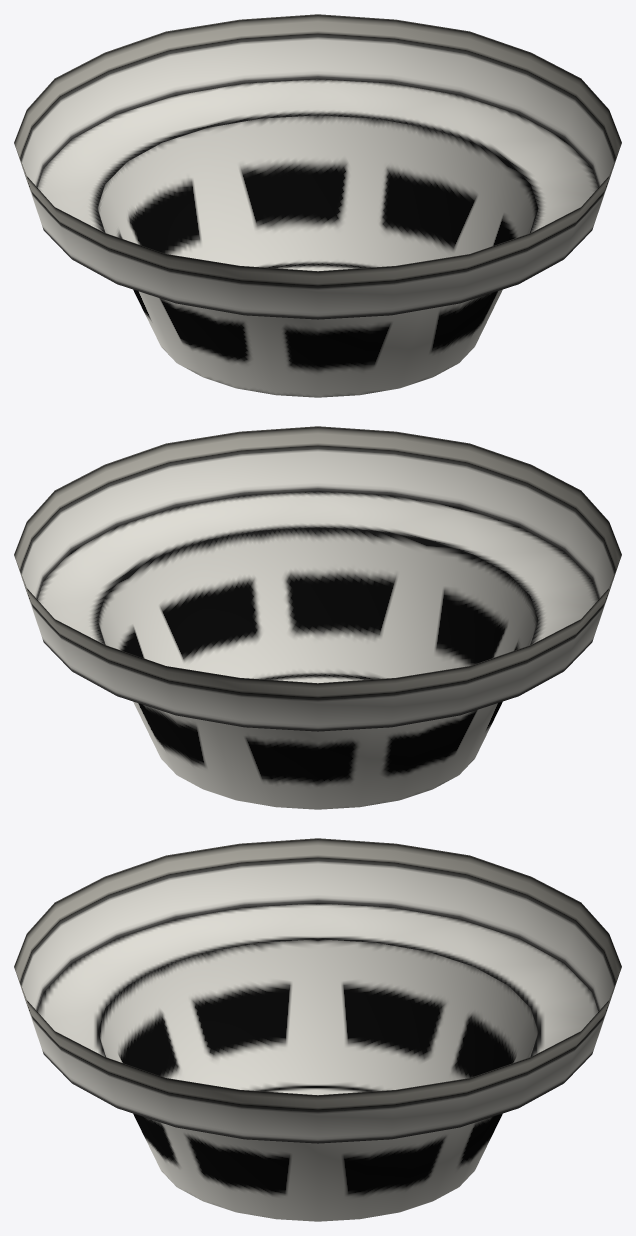
The model's file is smokeDetector.fbx.
3 renders of one model, top to bottom at view 1: azimuth 30°, elevation 25°; view 2: azimuth 150°, elevation 25°; view 3: azimuth 270°, elevation 25°, orthographic.
Parts seen in each view (by area): view 1: pCylinder6; view 2: pCylinder6; view 3: pCylinder6.
Part boxes in pixels (bbox=[...]): pCylinder6: bbox=[14, 14, 621, 397]; pCylinder6: bbox=[14, 426, 621, 809]; pCylinder6: bbox=[14, 838, 621, 1221].
Bounding box in the file's own units: 0.4405 × 0.1488 × 0.4405.
